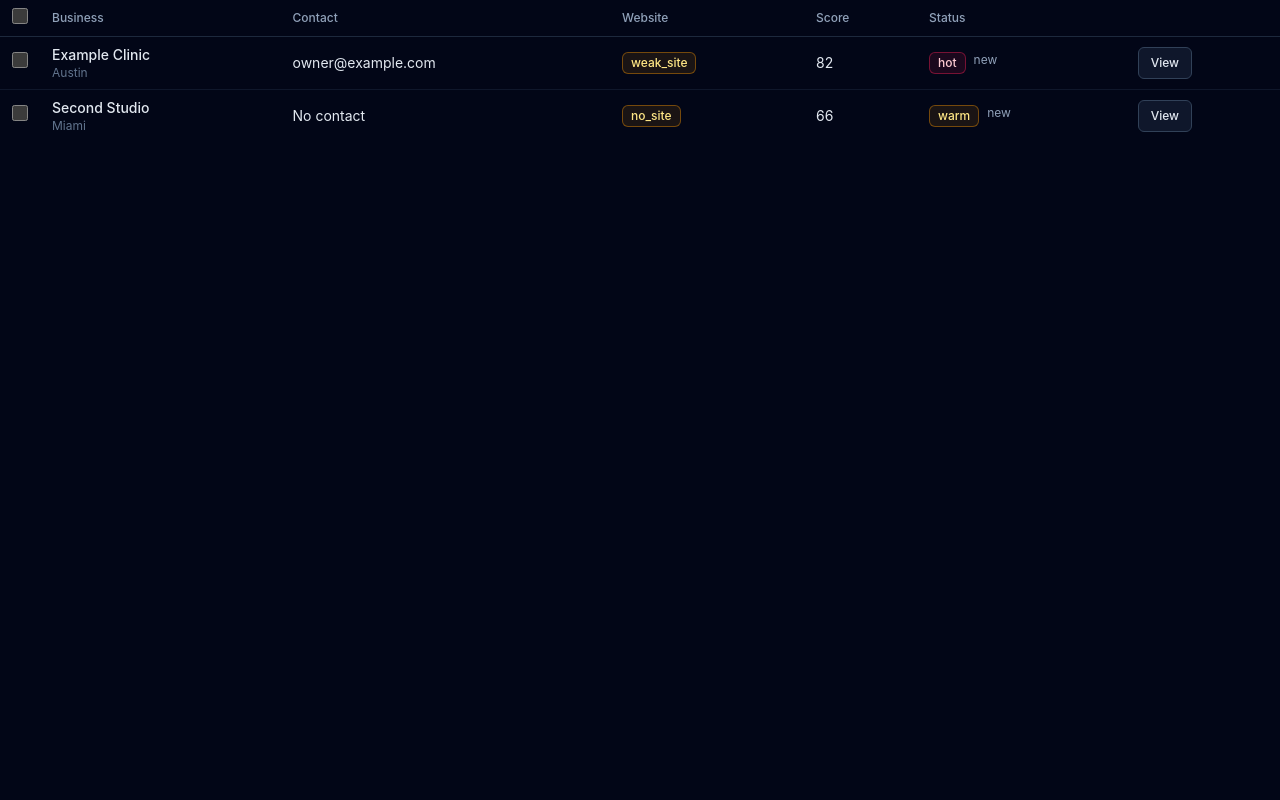
Test: bulk outreach selection UI › creates an Email batch from selected leads
Click the checkbox named "Select Example Clinic": {"x": 20, "y": 60} [12,52,28,68]
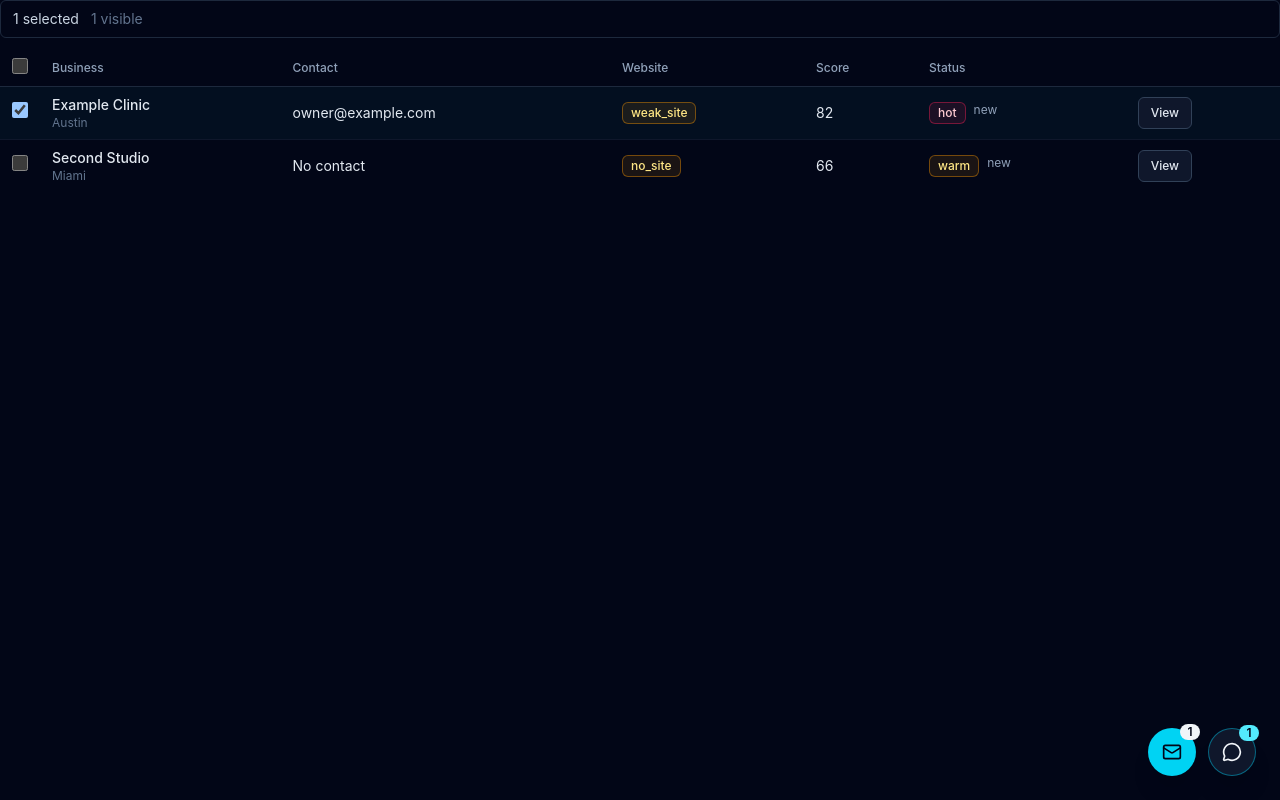
Click the button named "Review email for 1 selected leads": {"x": 1172, "y": 752} [1148,728,1196,776]
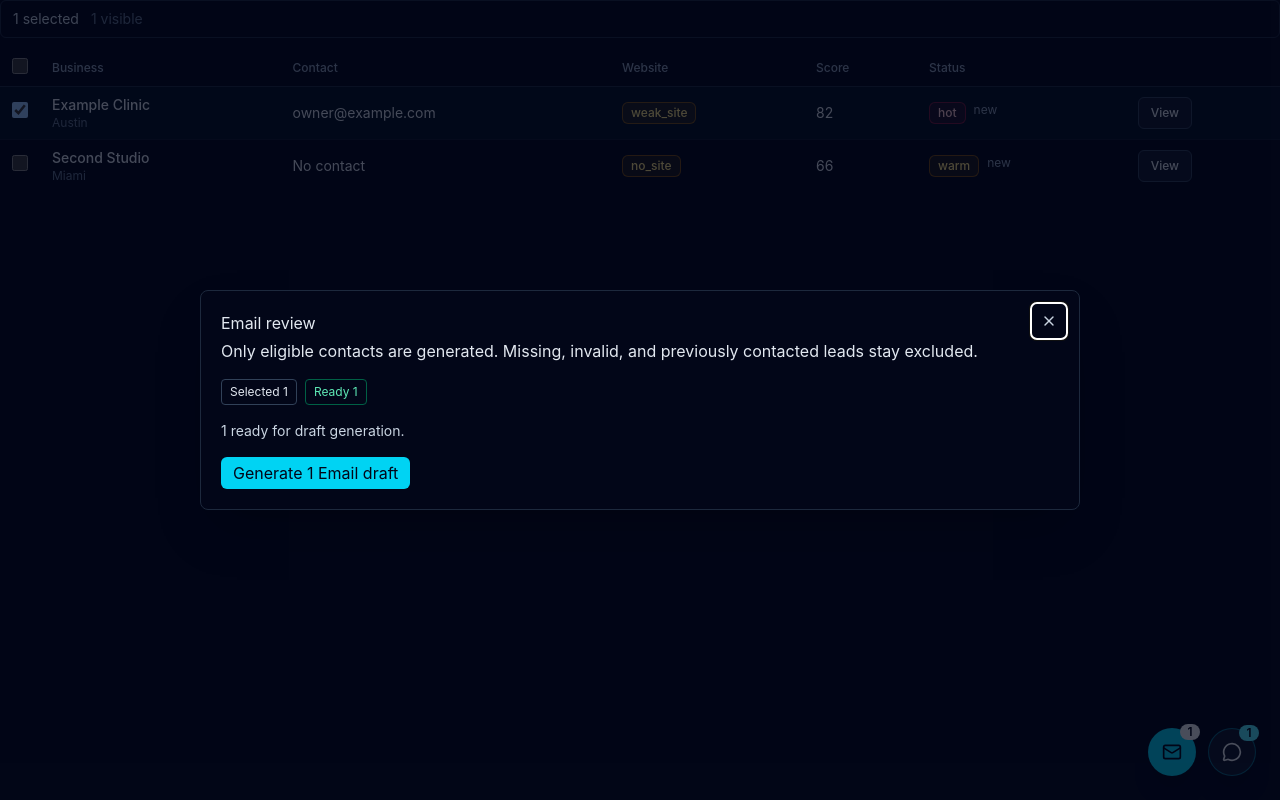
Result: the button "Generate 1 Email draft" is shown at [221,457,410,489]
